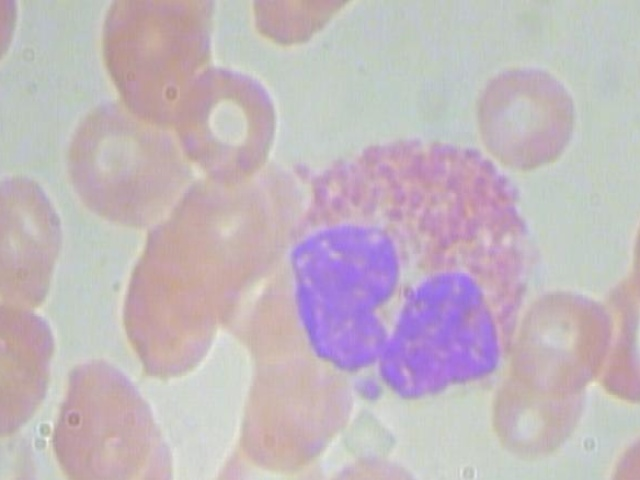RBC: (61, 94, 190, 225), (506, 280, 626, 397), (168, 66, 289, 182), (462, 61, 582, 177), (481, 340, 601, 456), (0, 294, 74, 440), (0, 292, 72, 437), (0, 171, 75, 287)
WBC: (280, 129, 547, 408)
